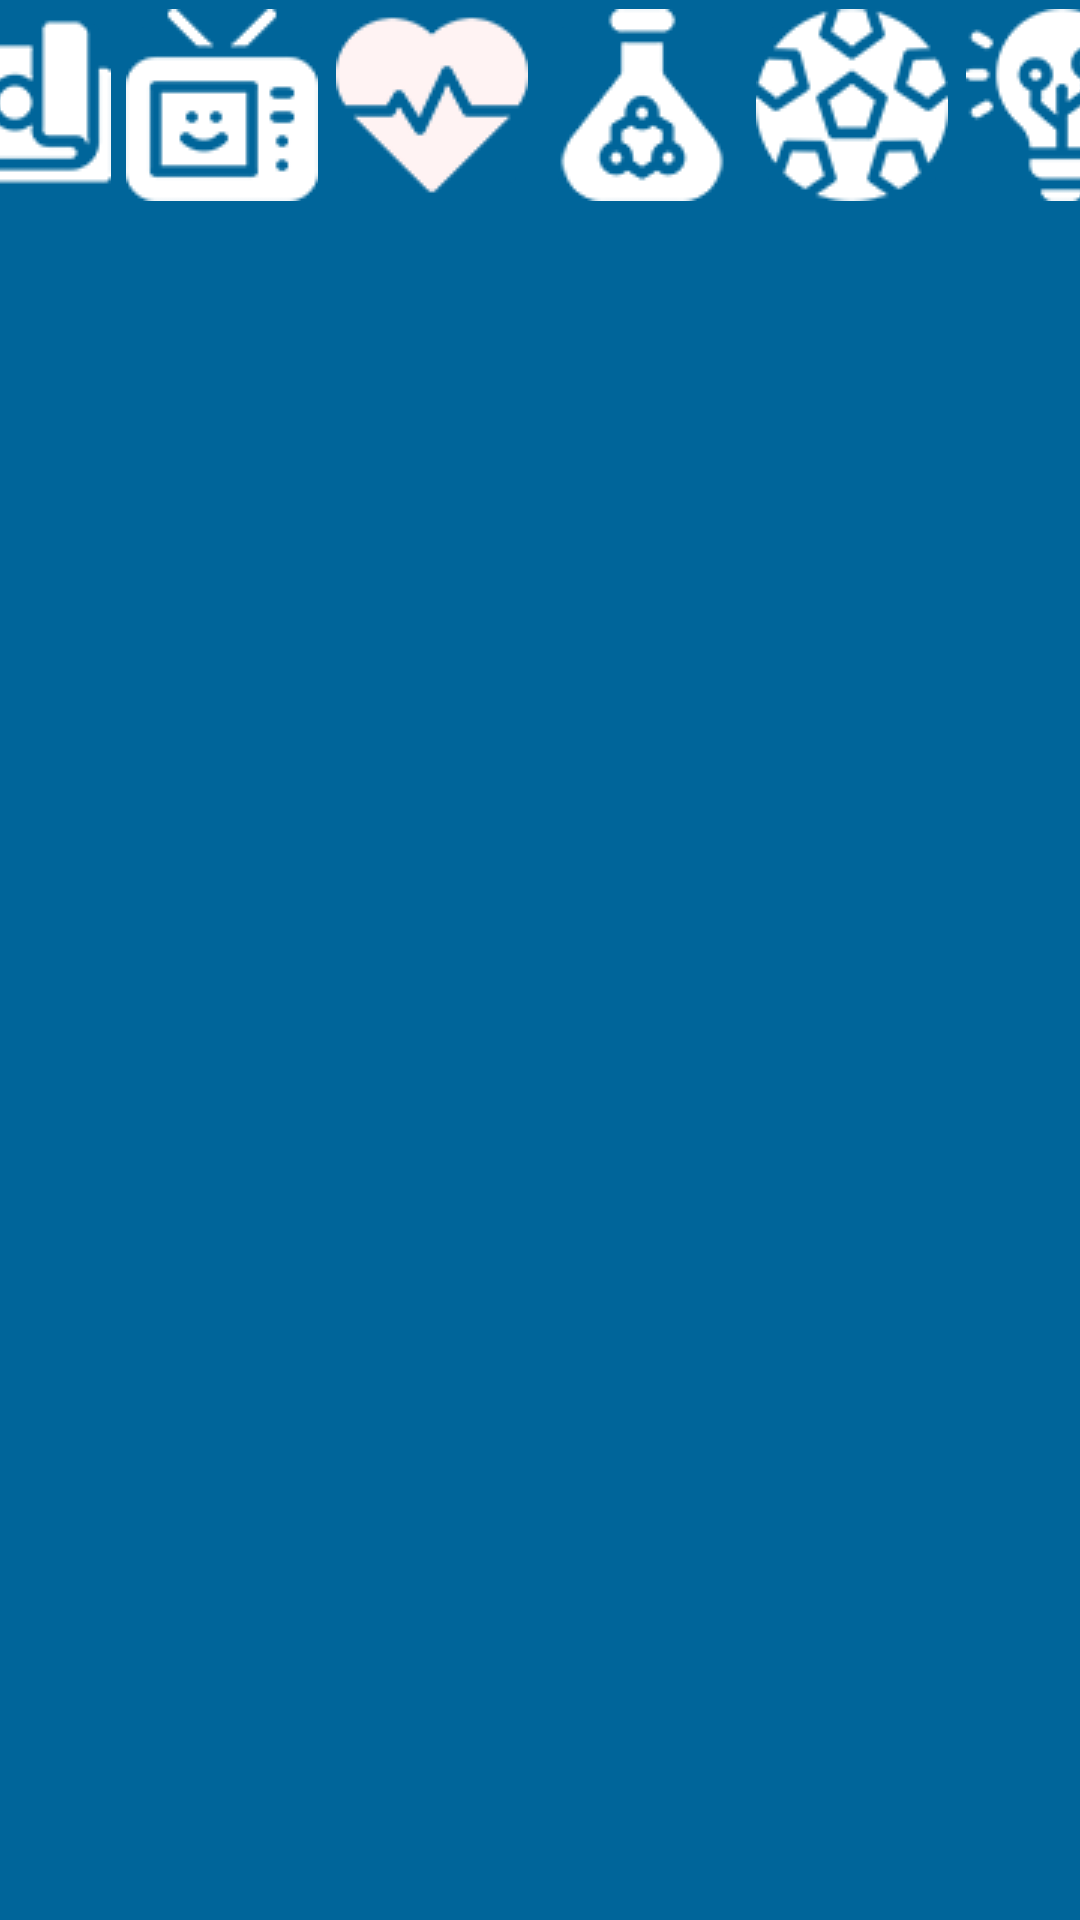

Icon bounding boxes for this 1080×1920 phone screenshot, format (x1, y1, x2, y2):
ciencia: (560, 9, 724, 201)
deporte: (756, 9, 948, 201)
entretenimientoo: (126, 9, 318, 201)
saludd: (336, 17, 528, 193)
